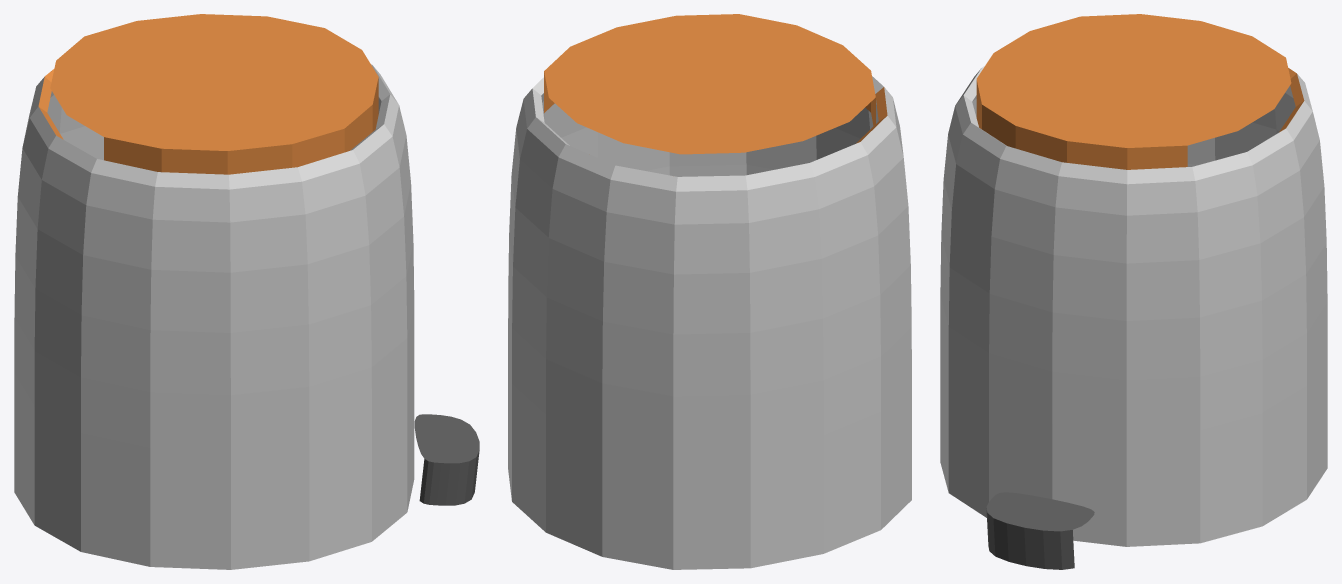
The model's file is Trash.gltf.
3 views of the same model, side by side, from view 1: azimuth 30°, elevation 25°; view 2: azimuth 150°, elevation 25°; view 3: azimuth 270°, elevation 25° (orthographic). The views are drawn at different scales.
Parts seen in each view (by area): view 1: TrashCan; view 2: TrashCan; view 3: TrashCan.
Boxes of the visible parts, <box> form: TrashCan: <box>14,14,479,569</box>; TrashCan: <box>508,14,911,569</box>; TrashCan: <box>940,14,1327,569</box>.
Bounding box in the file's own units: 0.6503 × 0.6474 × 0.5825.
